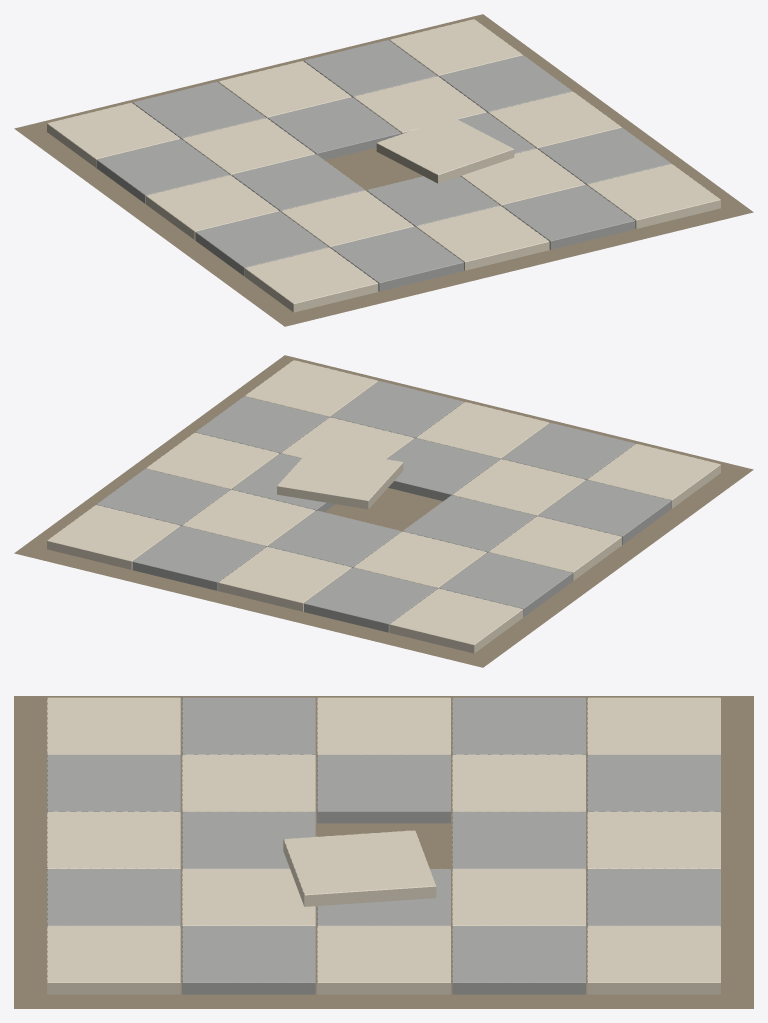
File: terilgan.glb
3 views of the same model, one above another, from view 1: azimuth 30°, elevation 25°; view 2: azimuth 150°, elevation 25°; view 3: azimuth 270°, elevation 25° (orthographic). The views are drawn at different scales.
Parts seen in each view (by area): view 1: qum, t.012, t, t.015, t.005, t.010, t.020, t.013, t.001, t.002, t.003, t.004 (+14 smaller); view 2: qum, t.004, t.012, t.019, t.009, t.014, t.024, t.002, t.003, t.001, t, t.006 (+14 smaller); view 3: qum, t.012, t.007, t.020, t.021, t.022, t.023, t.024, t, t.001, t.002, t.003 (+14 smaller).
Boxes of the visible parts, box(x1,y1,x2,y2) form: qum: box(14, 14, 753, 326); t.012: box(376, 117, 514, 183); t: box(244, 247, 378, 312); t.015: box(501, 185, 635, 249); t.005: box(330, 226, 463, 291); t.010: box(416, 205, 549, 270); t.020: box(587, 164, 720, 228); t.013: box(267, 97, 401, 159); t.001: box(195, 211, 328, 276); t.002: box(146, 175, 279, 239); t.003: box(96, 139, 229, 203); t.004: box(47, 103, 180, 167); qum: box(14, 355, 753, 667); t.004: box(389, 588, 523, 653); t.012: box(277, 447, 403, 509); t.019: box(132, 526, 266, 590); t.009: box(304, 567, 437, 632); t.014: box(218, 546, 351, 611); t.024: box(47, 505, 180, 569); t.002: box(488, 516, 621, 580); t.003: box(439, 552, 572, 617); t.001: box(538, 480, 671, 544); t: box(587, 444, 720, 508); t.006: box(452, 459, 585, 516); qum: box(14, 696, 753, 1008); t.012: box(283, 830, 436, 906); t.007: box(317, 754, 450, 823); t.020: box(47, 926, 180, 994); t.021: box(182, 926, 315, 994); t.022: box(317, 926, 450, 994); t.023: box(452, 926, 585, 994); t.024: box(587, 926, 720, 994); t: box(47, 697, 180, 754); t.001: box(182, 697, 315, 754); t.002: box(317, 697, 450, 754); t.003: box(452, 697, 585, 754).
Bounding box in the file's own units: 1.66 × 0.062 × 1.66.
